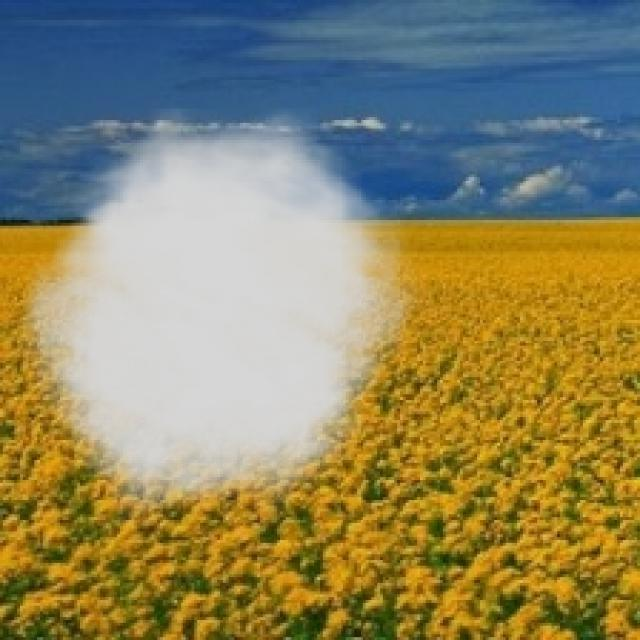Smoke: (6, 109, 428, 528)
